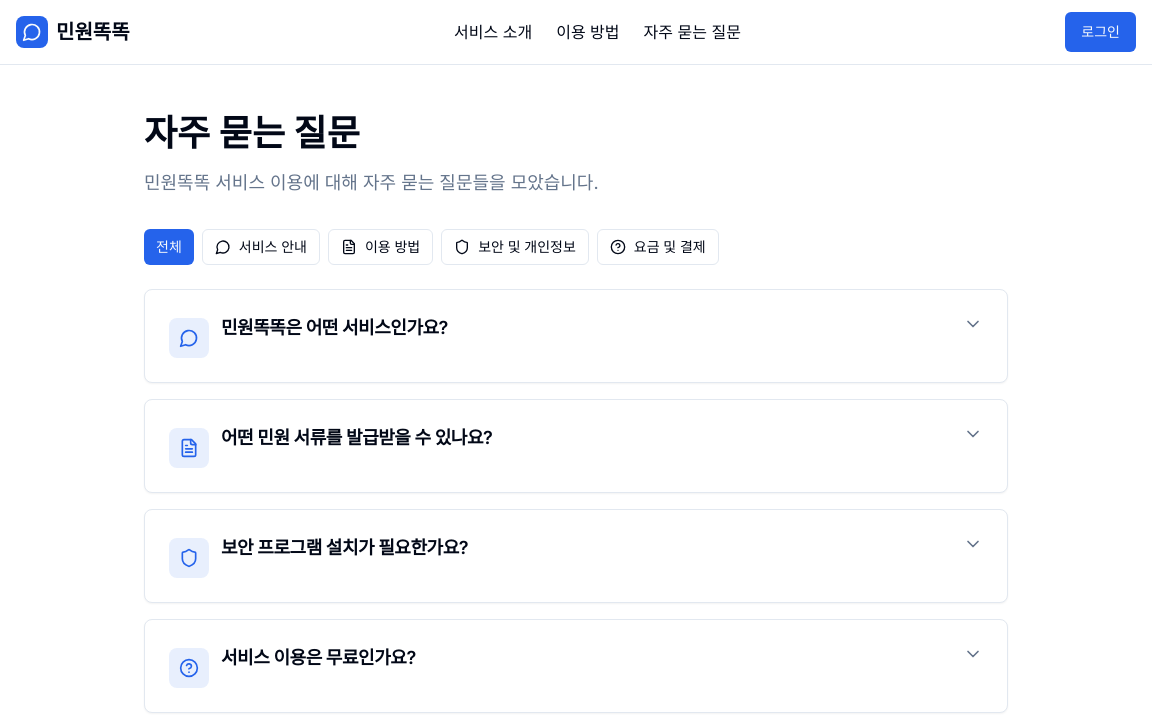
it: FaqPage › FAQ 항목을 클릭하면 답변이 표시되어야 함
# 첫 번째 FAQ 클릭
Click the heading "민원똑똑은 어떤 서비스인가요?".
click(334, 328)  # box top-left (221, 314), bottom-right (448, 342)
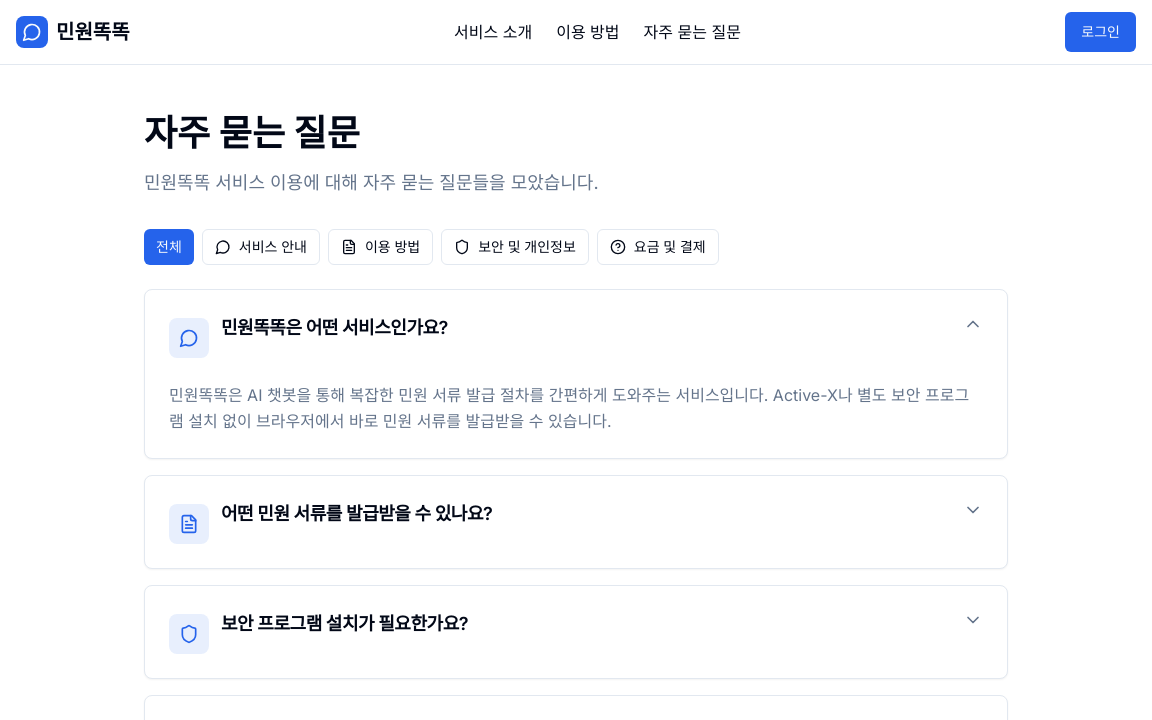
Now the text "AI 챗봇을 통해 복잡한 민원 서류 발급" is shown, box top-left (169, 385), bottom-right (969, 431)
